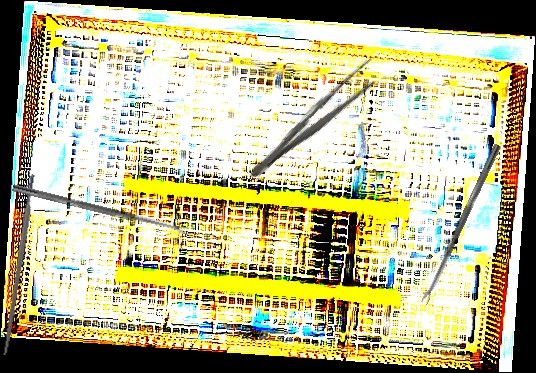Dressing Forceps: (242, 54, 386, 187)
Scalpel Handle: (1, 174, 38, 356)
Surgical Spoon: (419, 143, 502, 305), (11, 184, 190, 236)
